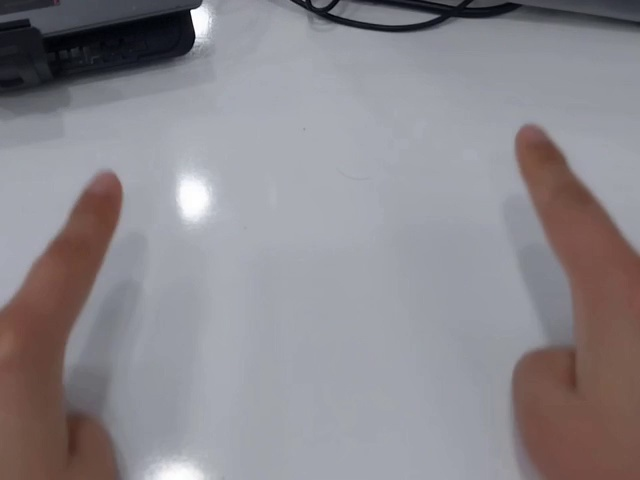fingers: (78, 165, 123, 220), (514, 122, 564, 168)
